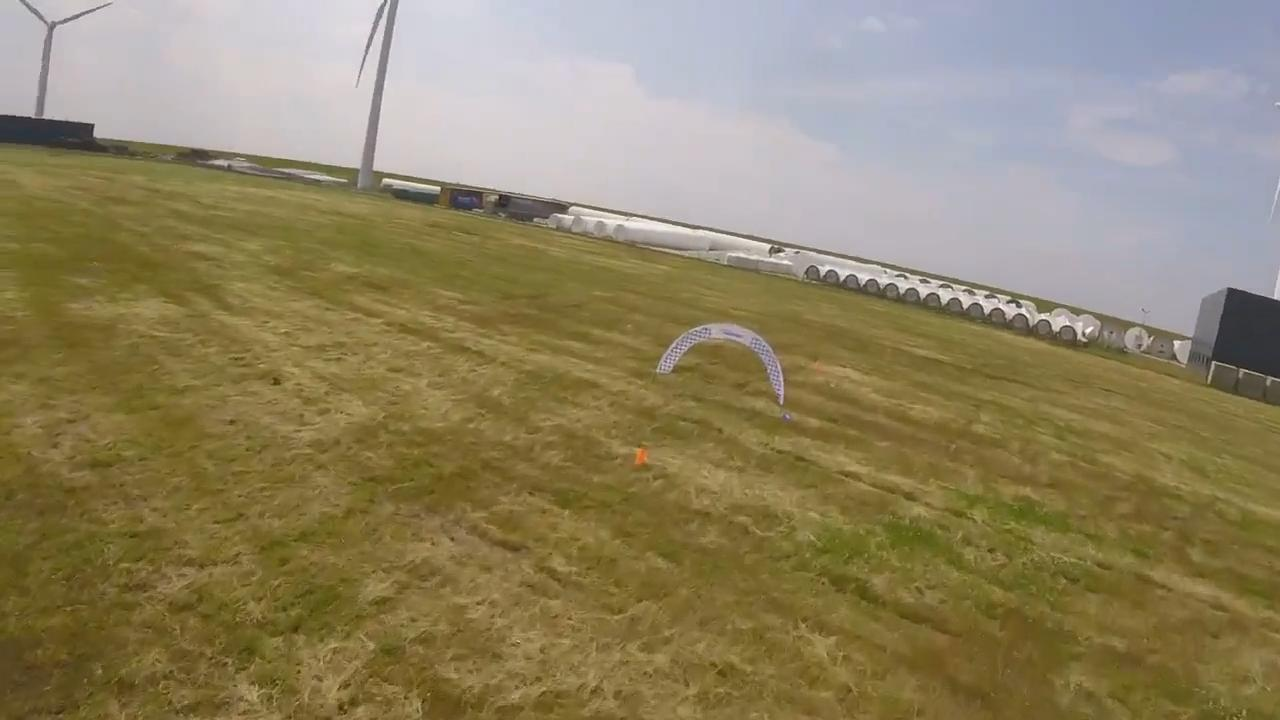gate: (656, 321, 784, 405)
